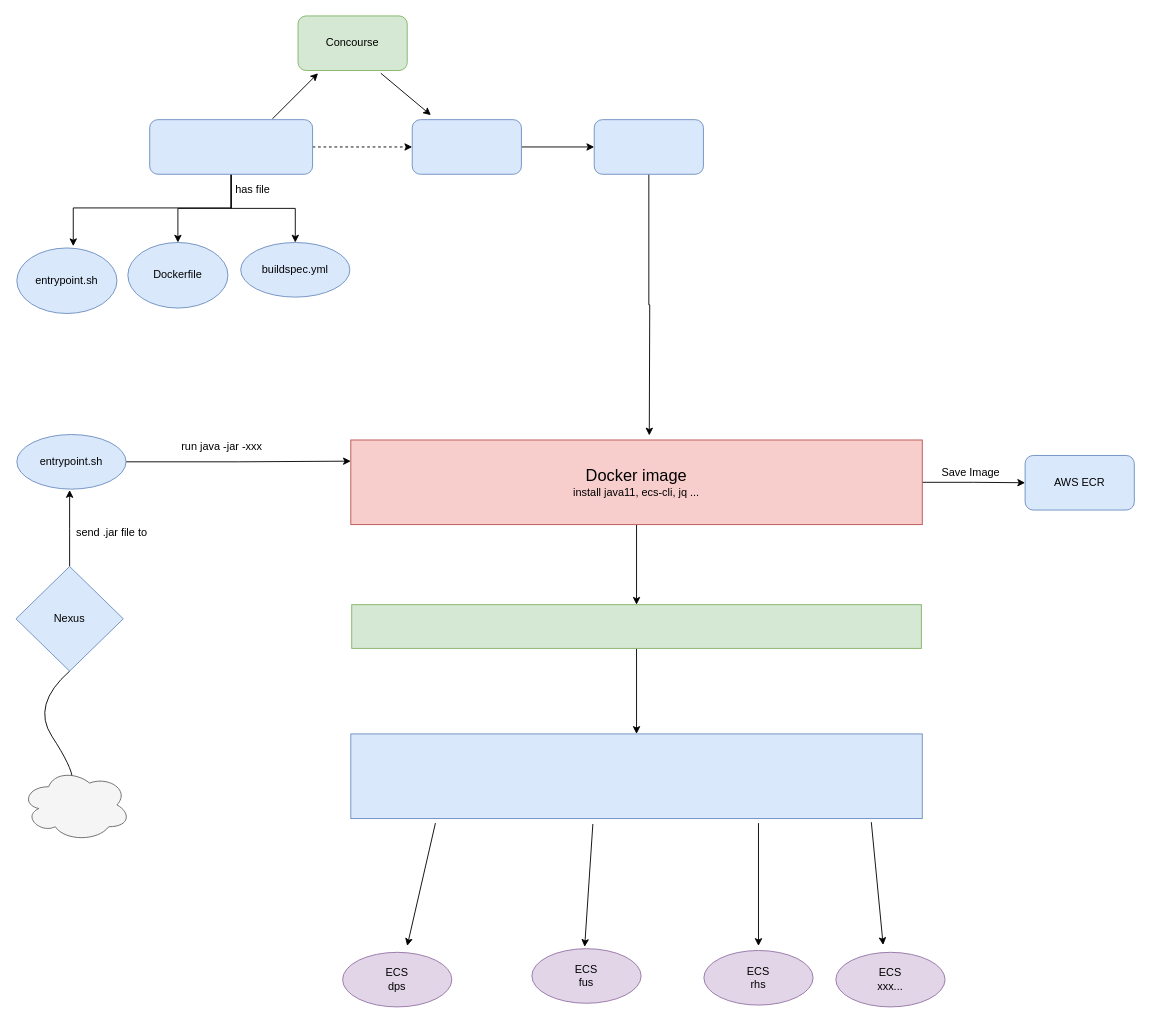
The diagram is 1150 pixels wide and 1023 high, and some of its shapes have lost their labels. The shapes that lost their labels are listed below. From the top down, each one's centre as x and y in pixels, then its label:
pixel 231 146: AWS CodeCommit / BitBucket
pixel 466 146: AWS CodePipeline
pixel 648 146: AWS CodeBuild
pixel 636 626: Concourse / AWS Pipeline
pixel 636 776: AWS CodeDeploy / ECS-CLI inside Docker
pixel 75 804: some .jar files
